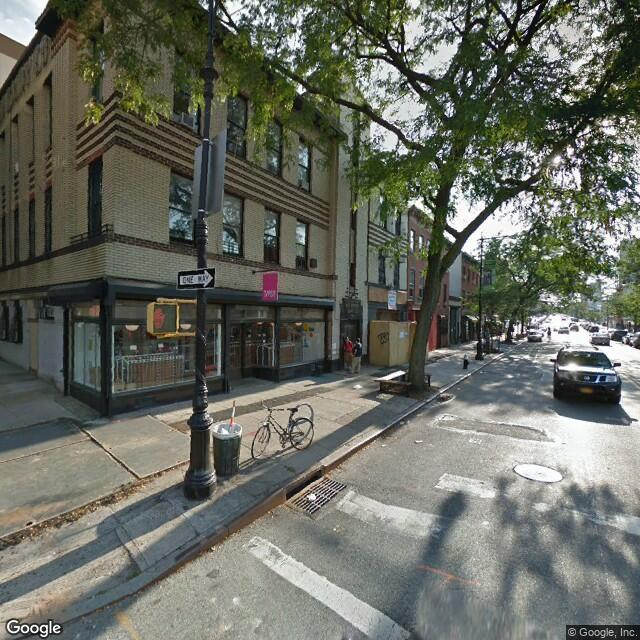litter: (306, 494, 319, 502), (454, 384, 461, 393), (353, 382, 364, 387), (378, 443, 388, 447), (413, 440, 424, 442), (475, 369, 480, 371)
